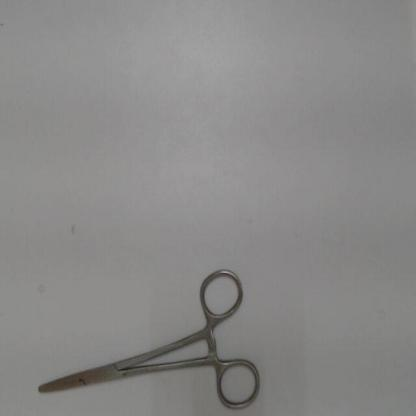Mayo Needle Holder: (25, 259, 267, 413)
